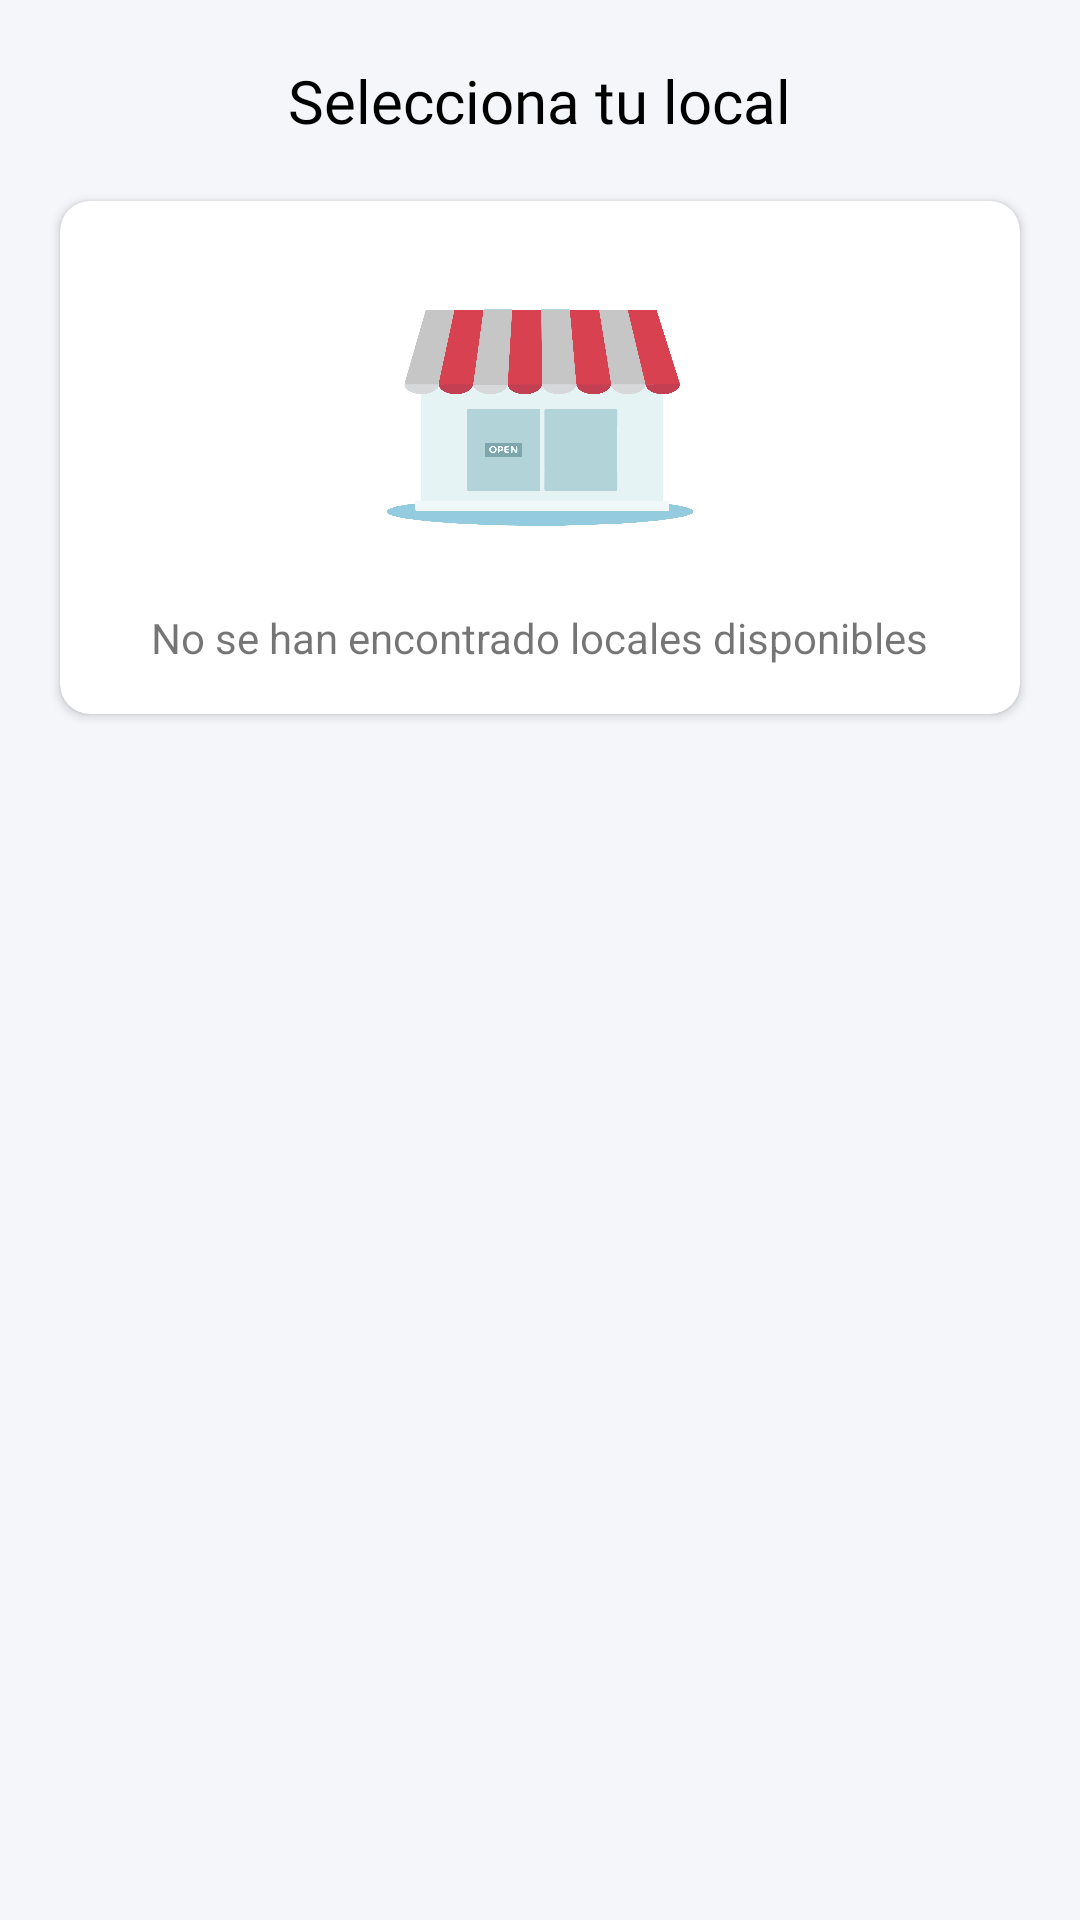

Icons on this 1080 x 1920 Android screen, each with the point to tap as point (x, y):
store: point (540, 417)
